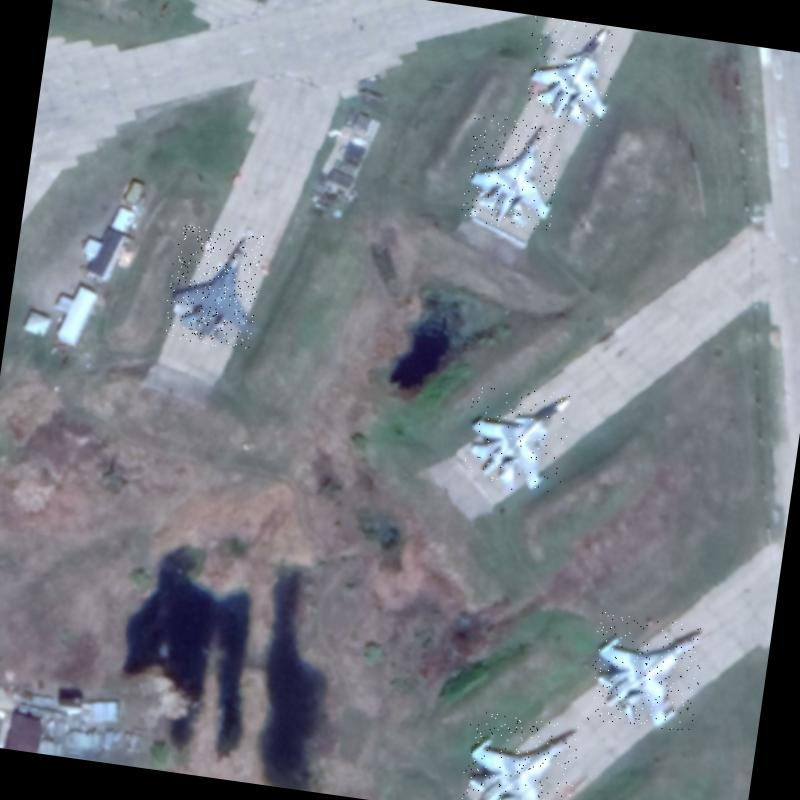A1: (584, 611, 706, 734), (161, 222, 264, 351), (460, 113, 564, 233), (457, 710, 580, 800)
A19: (460, 381, 572, 497), (520, 15, 620, 128)
